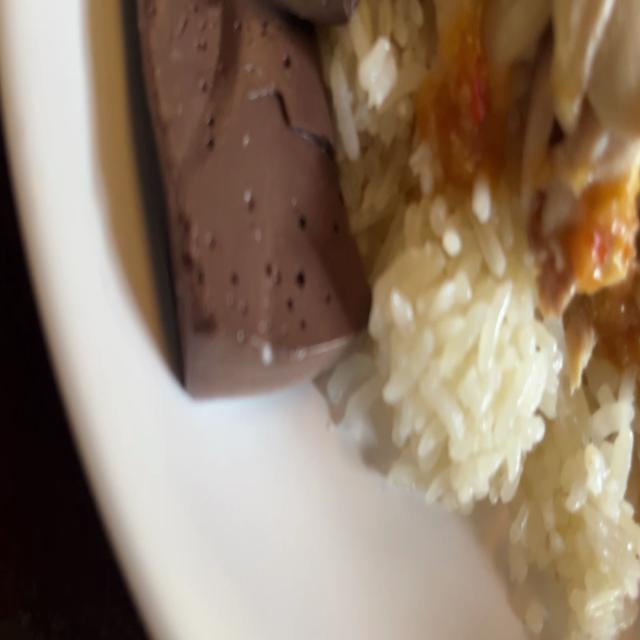boiled_chicken: (477, 0, 640, 233)
boiled_chicken_blood_jelly: (129, 0, 372, 377)
chicken_rice: (120, 0, 640, 640)
